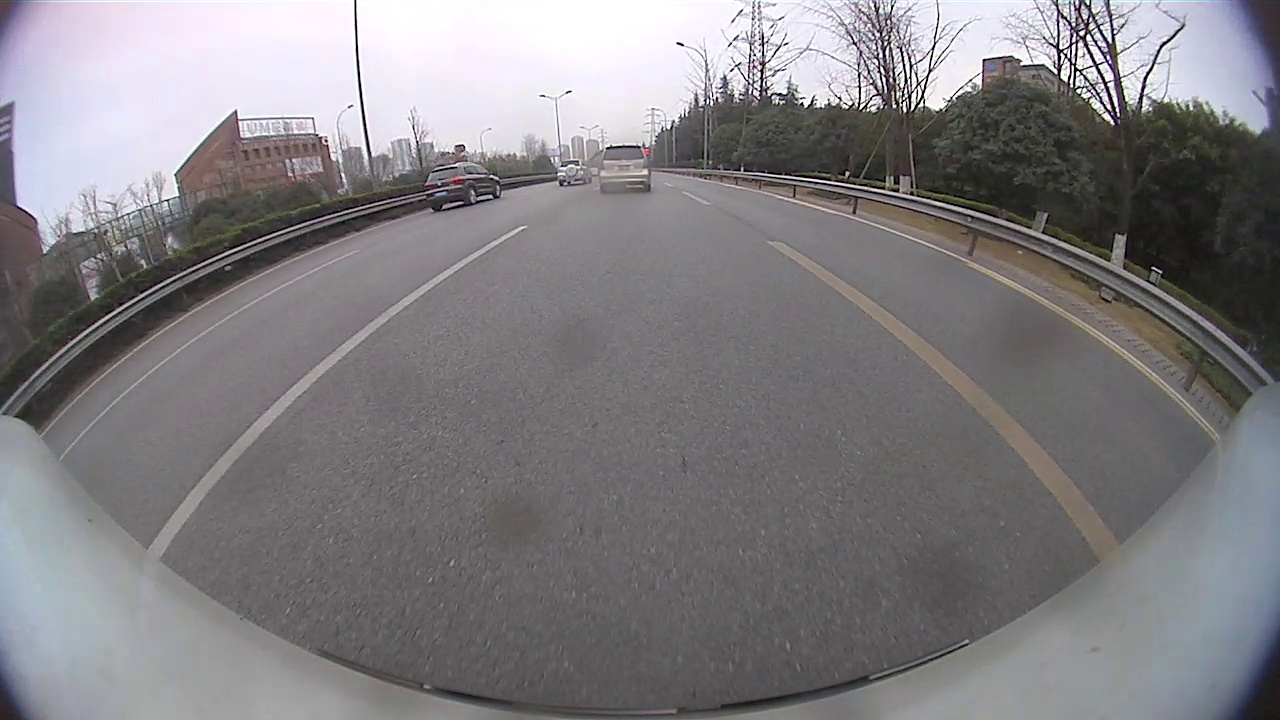car: (423, 163, 501, 211), (597, 144, 651, 195), (556, 158, 593, 186)
front: (492, 184, 503, 199)
rear: (469, 187, 478, 206)
